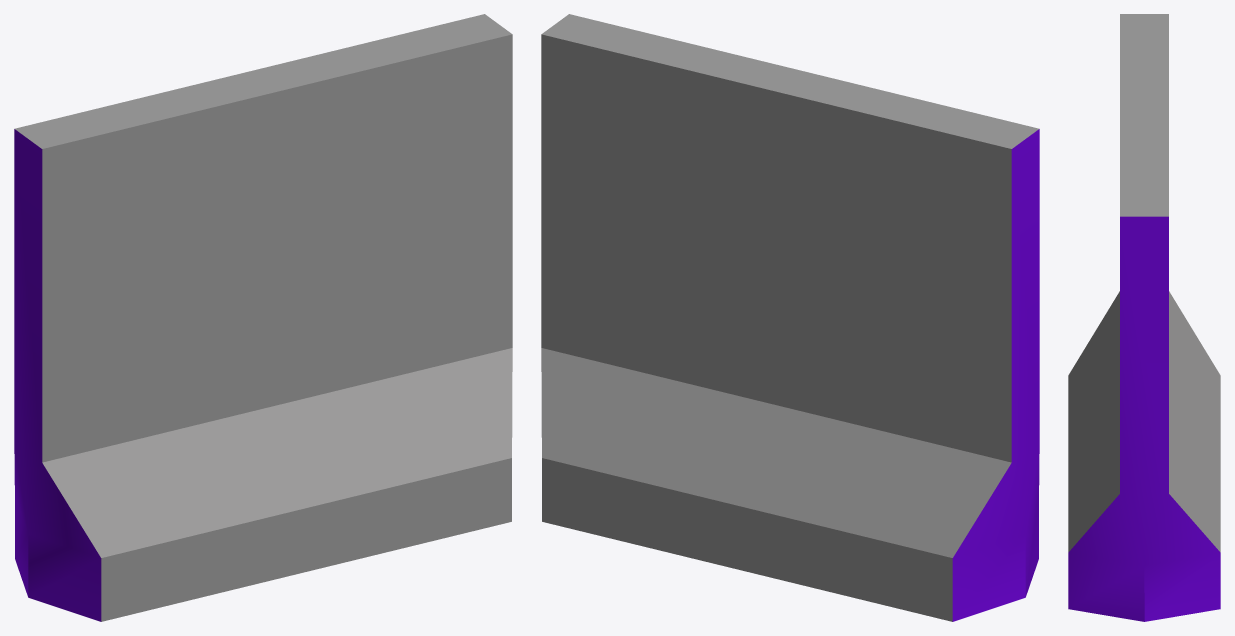
The model's file is Barricade_Concrete_09.fbx.
3 renders of one model, left to right at view 1: azimuth 30°, elevation 25°; view 2: azimuth 150°, elevation 25°; view 3: azimuth 270°, elevation 25°, orthographic. The views are drawn at different scales.
Visible parts, largest first — view 1: Obstacle_Barricade_Concrete_09; view 2: Obstacle_Barricade_Concrete_09; view 3: Obstacle_Barricade_Concrete_09.
Part boxes in pixels (bbox=[...]): Obstacle_Barricade_Concrete_09: bbox=[14, 14, 512, 621]; Obstacle_Barricade_Concrete_09: bbox=[541, 14, 1039, 621]; Obstacle_Barricade_Concrete_09: bbox=[1068, 14, 1220, 621].
Size of the model in its own units: 128 by 119 by 40.73.
Materials: 1 (1 with a texture image).
